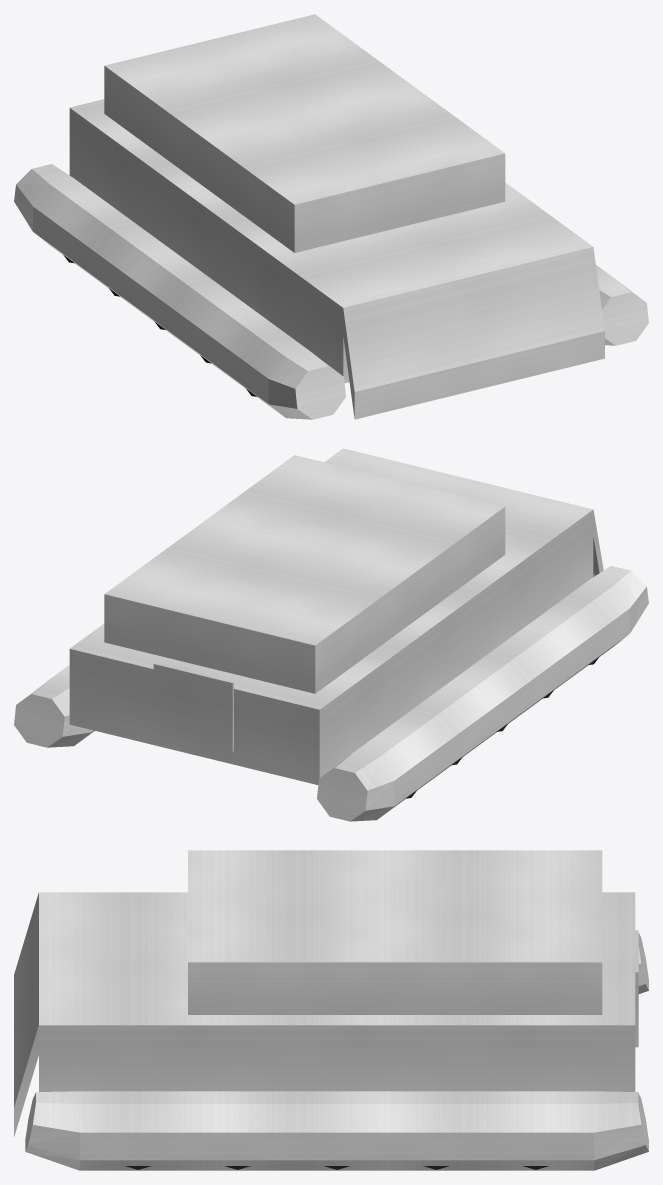
Rendered from wreck_apc.obj.
The picture shows the model from 3 angles, top to bottom: view 1: azimuth 30°, elevation 25°; view 2: azimuth 150°, elevation 25°; view 3: azimuth 270°, elevation 25°; orthographic projection. The views are drawn at different scales.
Visible parts, largest first — view 1: wreck_apc; view 2: wreck_apc; view 3: wreck_apc.
Boxes of the visible parts, left/top/right/bottom form: wreck_apc: left=14, top=14, right=648, bottom=419; wreck_apc: left=14, top=448, right=648, bottom=821; wreck_apc: left=14, top=850, right=648, bottom=1170.
Bounding box in the file's own units: 2.74 × 1.18 × 3.83.
